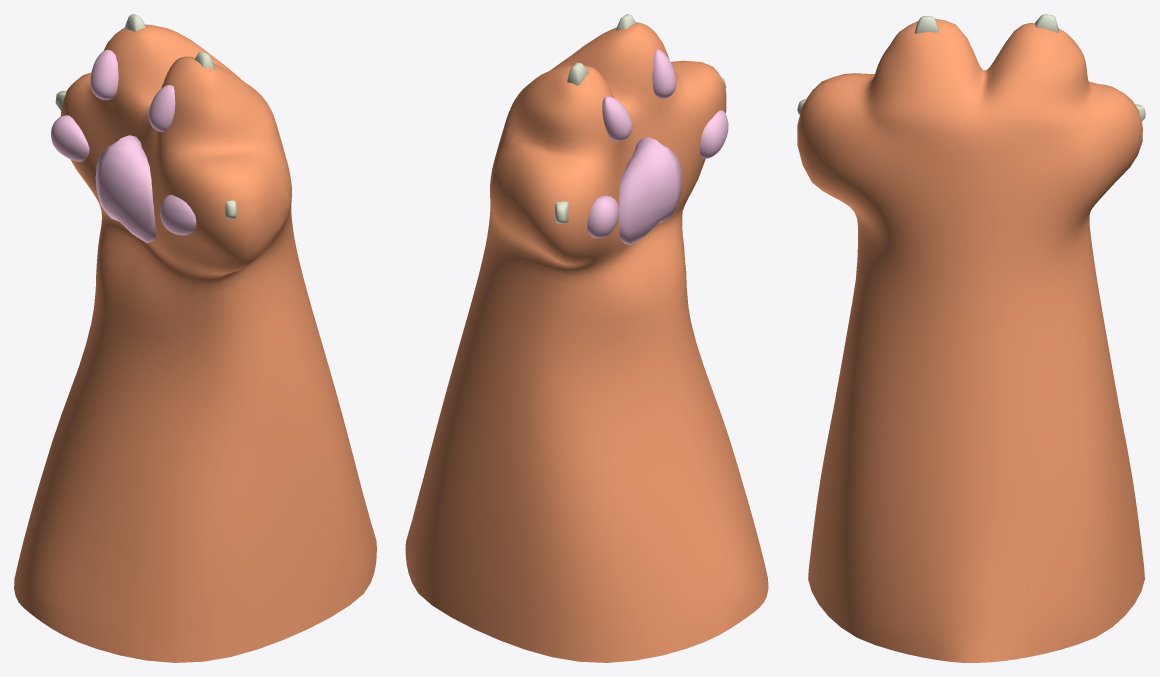
File: catastroffee_-_cat_paws_-_vr_hands.glb
3 renders of one model, left to right at view 1: azimuth 30°, elevation 25°; view 2: azimuth 150°, elevation 25°; view 3: azimuth 270°, elevation 25°, orthographic. The views are drawn at different scales.
Visible parts, largest first — view 1: Cube.005; view 2: Cube.005; view 3: Cube.005.
Boxes of the visible parts, left/top/right/bottom form: Cube.005: left=14, top=14, right=376, bottom=662; Cube.005: left=405, top=14, right=768, bottom=662; Cube.005: left=797, top=14, right=1145, bottom=662.
Bounding box in the file's own units: 0.2895 × 0.4616 × 0.2569.
